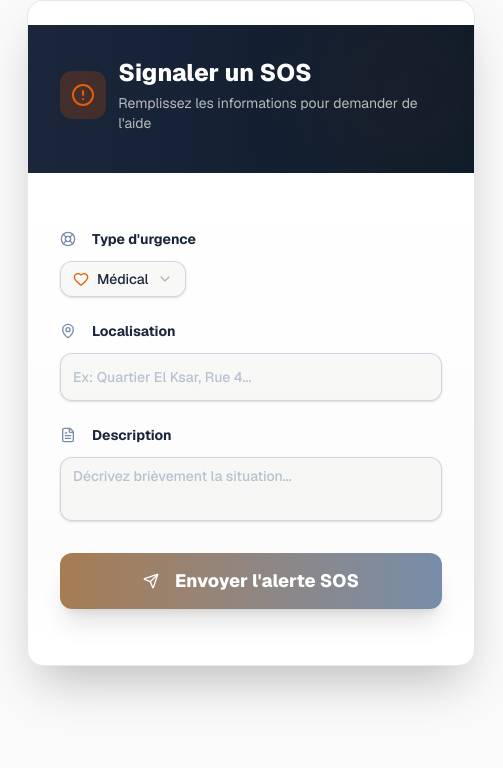
Test case: ReportForm › va afficher des erreurs de validation si les champs sont vides
This screenshot has width=503, height=768.
What coordinates should you click on to do the following:
click the button "Envoyer l'alerte SOS"
I would click on:
 (251, 581)
Its box is 60,553 -> 442,609.
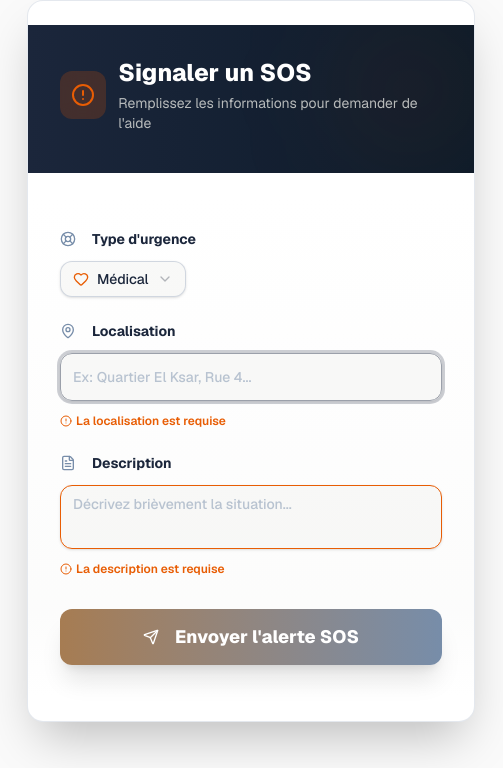
Now the text "La localisation est requise" is shown, box 76,413 -> 226,429
Now the text "La description est requise" is shown, box 76,561 -> 225,577
